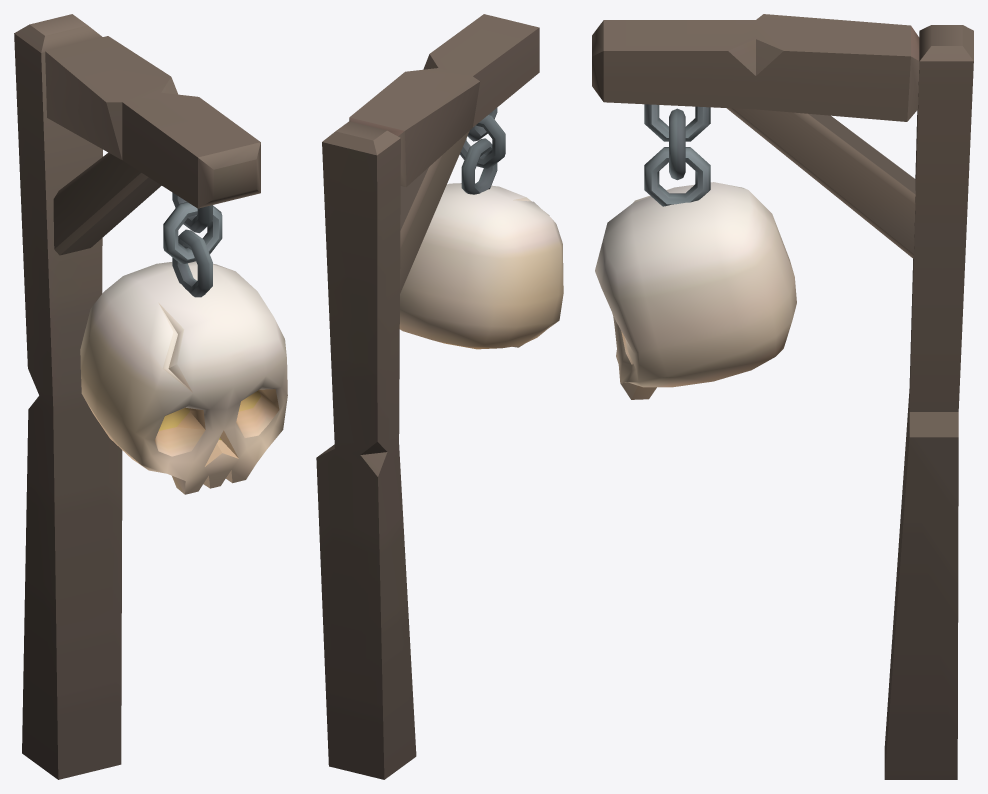
The model's file is kay-estaca-caveira.gltf.
3 renders of one model, left to right at view 1: azimuth 30°, elevation 25°; view 2: azimuth 150°, elevation 25°; view 3: azimuth 270°, elevation 25°, orthographic. The views are drawn at different scales.
Parts seen in each view (by area): view 1: post_skull; view 2: post_skull; view 3: post_skull.
Boxes of the visible parts, left/top/right/bottom form: post_skull: left=14, top=14, right=287, bottom=779; post_skull: left=316, top=14, right=563, bottom=779; post_skull: left=592, top=14, right=973, bottom=779.
Bounding box in the file's own units: 0.4045 × 1.65 × 0.7832.
Materials: 1 (1 with a texture image).
